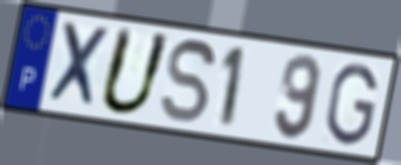1: (217, 43, 249, 130)
9: (273, 51, 324, 143)
G: (323, 61, 380, 148)
S: (159, 36, 219, 127)
U: (96, 24, 175, 118)
X: (45, 19, 113, 112)
